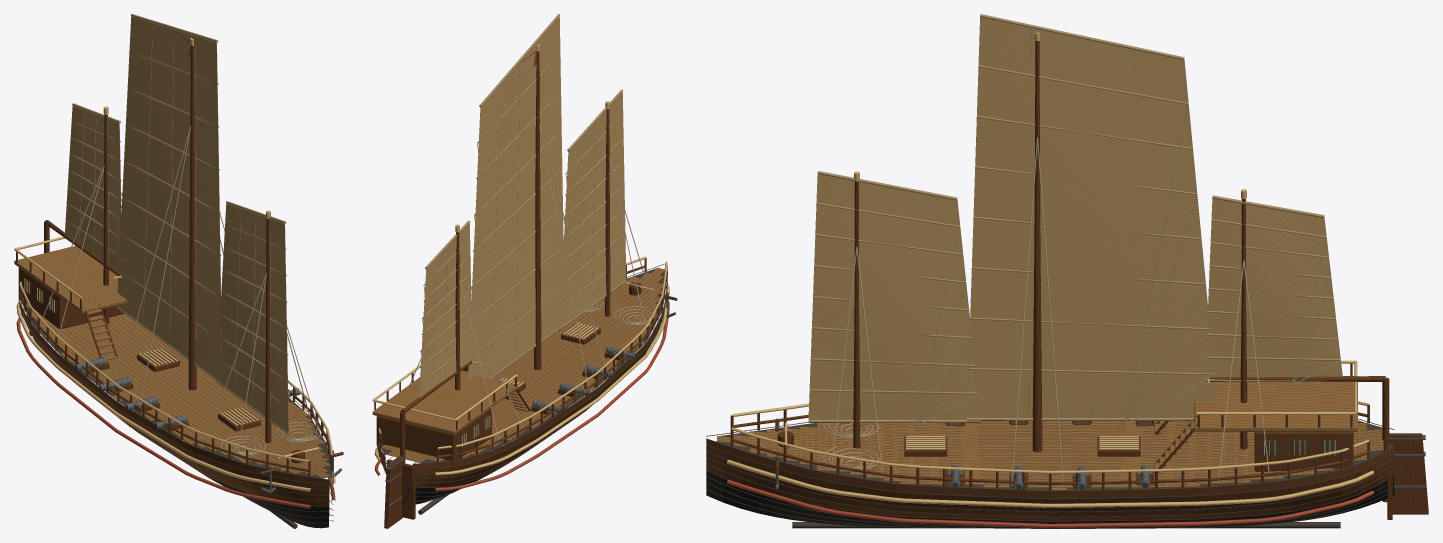
The model's file is fuchuan-lod0.glb.
3 renders of one model, left to right at view 1: azimuth 30°, elevation 25°; view 2: azimuth 150°, elevation 25°; view 3: azimuth 270°, elevation 25°, orthographic. The views are drawn at different scales.
Parts seen in each view (by area): view 1: sail_1, deck, sail_0, hull, sail_2, deck_fittings, bulwark_rails, mast_timber_1, sterncastle, mast_timber_0, rigging_1, rigging_0 (+4 smaller); view 2: sail_1, deck, sail_0, hull, sail_2, sterncastle, deck_fittings, bulwark_rails, mast_timber_1, rudder_blade, mast_timber_0, rigging_1 (+4 smaller); view 3: sail_1, sail_0, hull, deck, sail_2, bulwark_rails, deck_fittings, mast_timber_1, sterncastle, rudder_blade, mast_timber_0, mast_timber_2 (+1 smaller).
Part boxes in pixels (x1=…): sail_1: x1=116, y1=14, x2=222, y2=384; deck: x1=14, y1=246, x2=331, y2=478; sail_0: x1=216, y1=201, x2=289, y2=435; hull: x1=16, y1=296, x2=335, y2=528; sail_2: x1=65, y1=103, x2=122, y2=278; deck_fittings: x1=14, y1=236, x2=343, y2=493; bulwark_rails: x1=19, y1=281, x2=332, y2=476; mast_timber_1: x1=188, y1=45, x2=196, y2=390; sterncastle: x1=18, y1=267, x2=124, y2=329; mast_timber_0: x1=265, y1=218, x2=271, y2=443; rigging_1: x1=116, y1=126, x2=224, y2=410; rigging_0: x1=204, y1=273, x2=321, y2=457; sail_1: x1=467, y1=14, x2=565, y2=381; deck: x1=372, y1=267, x2=664, y2=463; sail_0: x1=558, y1=89, x2=626, y2=330; hull: x1=374, y1=264, x2=669, y2=519; sail_2: x1=419, y1=220, x2=472, y2=397; sterncastle: x1=376, y1=407, x2=491, y2=464; deck_fittings: x1=372, y1=282, x2=677, y2=446; bulwark_rails: x1=378, y1=256, x2=667, y2=462; mast_timber_1: x1=534, y1=51, x2=541, y2=369; rudder_blade: x1=384, y1=455, x2=403, y2=528; mast_timber_0: x1=605, y1=109, x2=610, y2=316; rigging_1: x1=539, y1=125, x2=604, y2=389; sail_1: x1=967, y1=14, x2=1216, y2=424; sail_0: x1=808, y1=171, x2=980, y2=426; hull: x1=706, y1=419, x2=1394, y2=528; deck: x1=717, y1=376, x2=1383, y2=490; sail_2: x1=1205, y1=195, x2=1342, y2=385; bulwark_rails: x1=730, y1=401, x2=1369, y2=490; deck_fittings: x1=775, y1=360, x2=1357, y2=489; mast_timber_1: x1=1032, y1=41, x2=1042, y2=452; sterncastle: x1=1254, y1=431, x2=1353, y2=471; rudder_blade: x1=1383, y1=433, x2=1428, y2=514; mast_timber_0: x1=853, y1=181, x2=860, y2=448; mast_timber_2: x1=1240, y1=199, x2=1247, y2=449.
Size of the model in its own units: 9.53 by 26.38 by 33.61.
12 materials, 4 textured.
